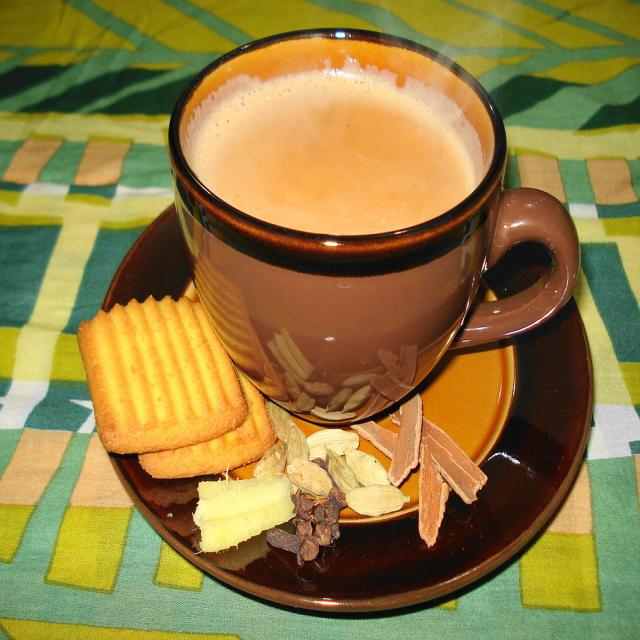chai: (156, 25, 588, 413)
